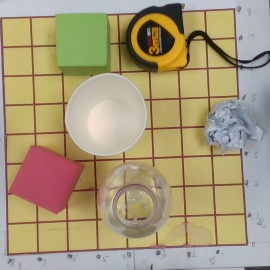bottle: (99, 162, 171, 237)
cup: (64, 73, 146, 157)
